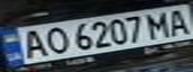0: (106, 16, 130, 46)
2: (90, 18, 112, 50)
6: (69, 20, 93, 52)
7: (124, 14, 148, 43)
A: (15, 27, 51, 60), (160, 7, 193, 36)
M: (142, 10, 175, 39)
O: (39, 25, 72, 55)
